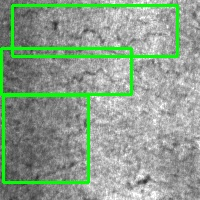crazing: (12, 5, 177, 56), (3, 95, 88, 182), (1, 48, 131, 94)
